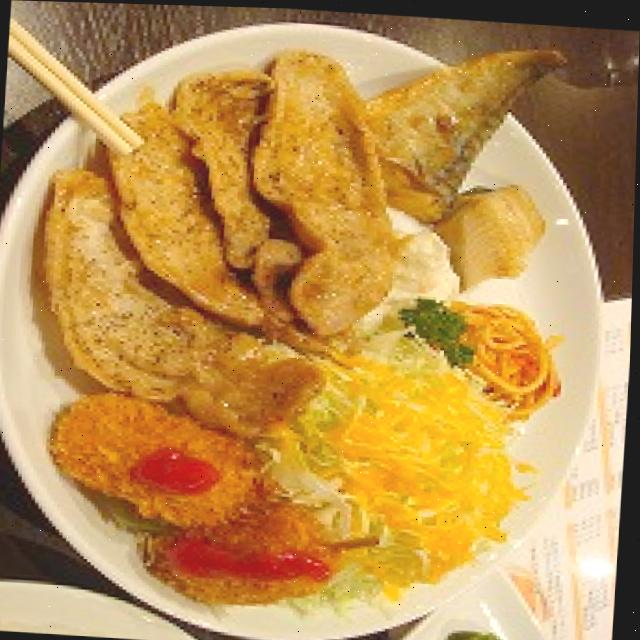猪肉菜式: (30, 44, 439, 448)
